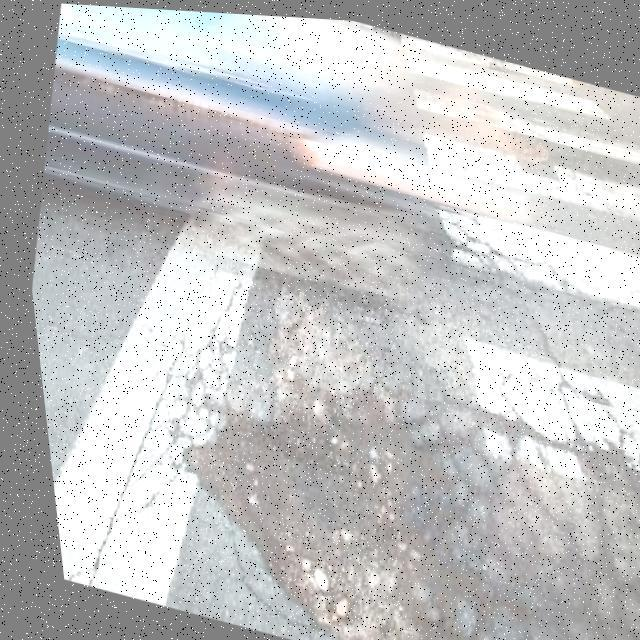pothole: (126, 328, 519, 640)
